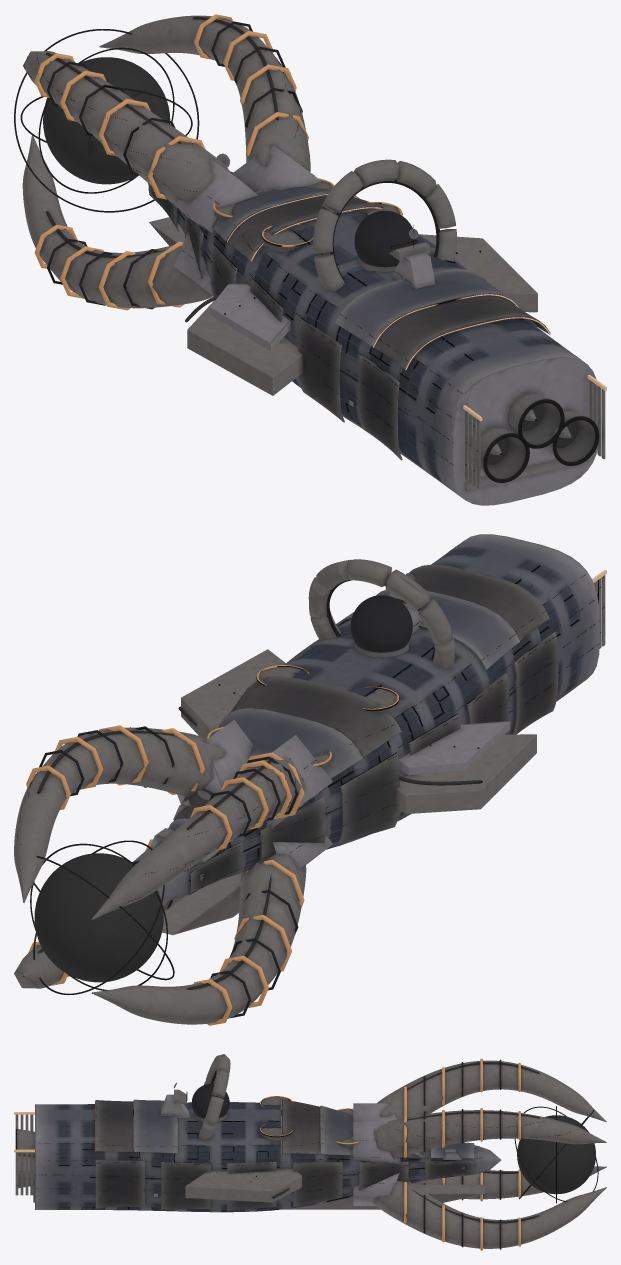
File: black_sun_hero-NO66S62K.glb
3 renders of one model, top to bottom at view 1: azimuth 30°, elevation 25°; view 2: azimuth 150°, elevation 25°; view 3: azimuth 270°, elevation 25°, orthographic. The views are drawn at different scales.
Visible parts, largest first — view 1: HullBaked; view 2: HullBaked; view 3: HullBaked.
Part boxes in pixels (x1=…): HullBaked: x1=14, y1=14, x2=606, y2=505; HullBaked: x1=14, y1=534, x2=606, y2=1025; HullBaked: x1=14, y1=1054, x2=606, y2=1250.
Size of the model in its own units: 390 by 335 by 1080.
Materials: 1 (1 with a texture image).
